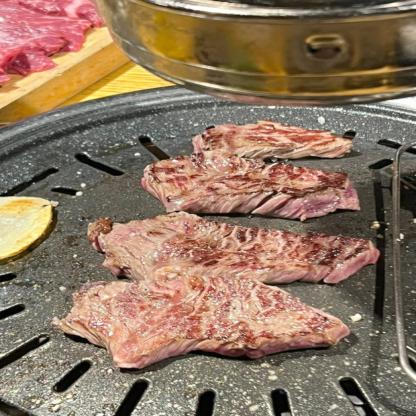Carne: (46, 271, 370, 370), (84, 213, 376, 288), (144, 150, 367, 221), (199, 117, 348, 161)
